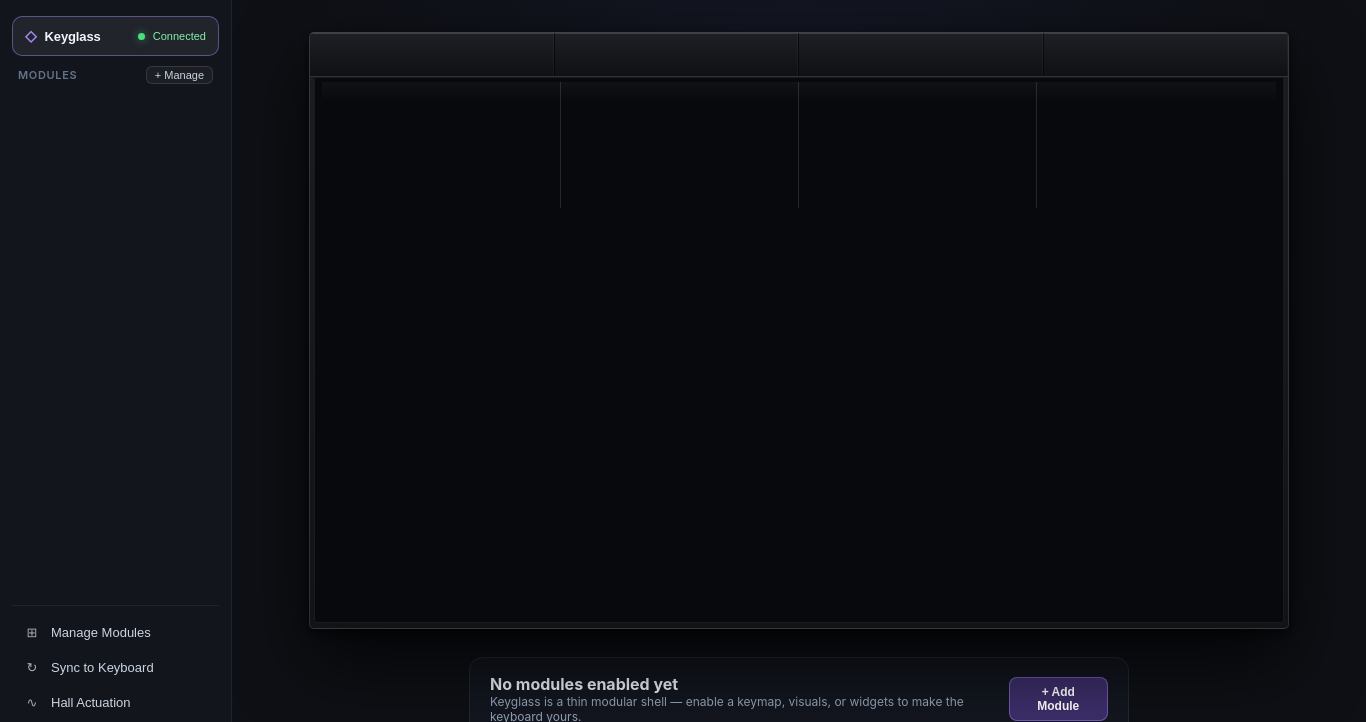
Test: distinguishes readback from display activation and reports a failed verification
Click the button "↻ Sync to Keyboard" at (116, 668), box [12,651,219,684]
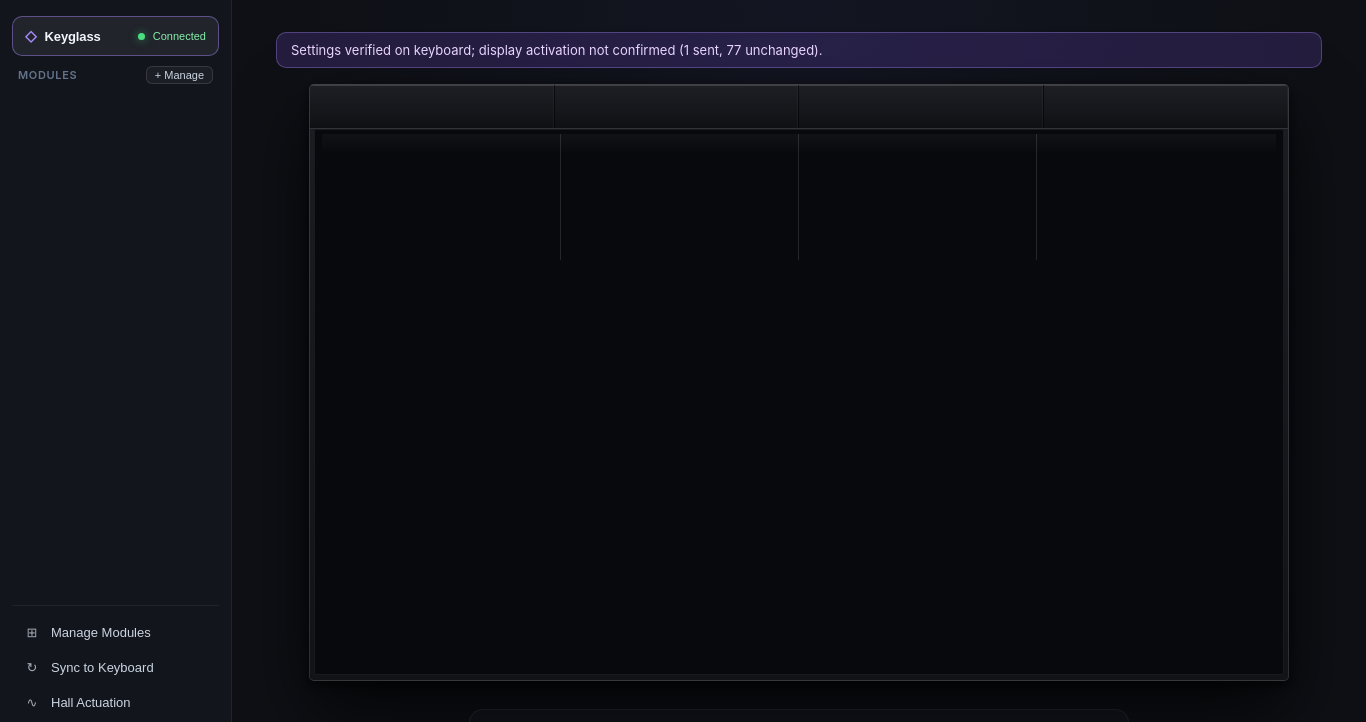
Result: the text "verified on keyboard; display activation not confirmed" is shown at [291,42,823,58]
Click the button "↻ Sync to Keyboard" at (116, 668), box [12,651,219,684]
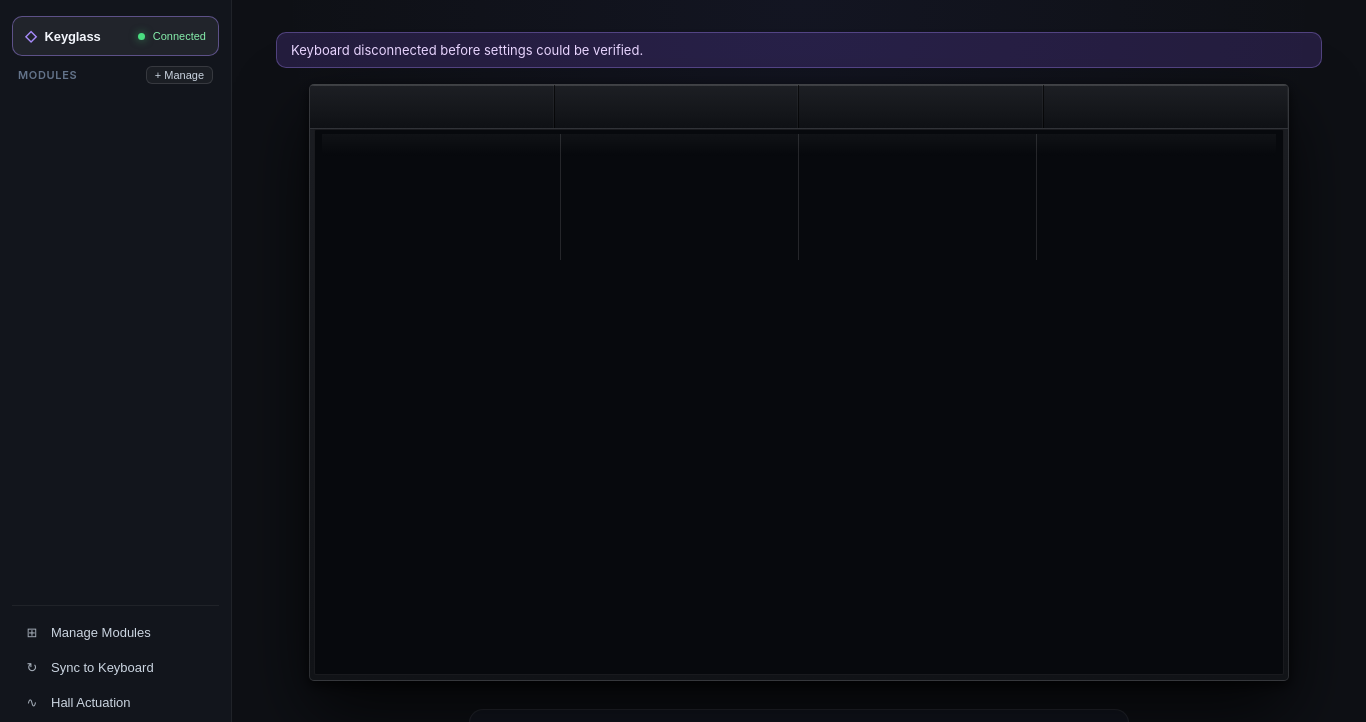
Result: the text "Keyboard disconnected before settings could be verified." is shown at [276,32,1322,68]
